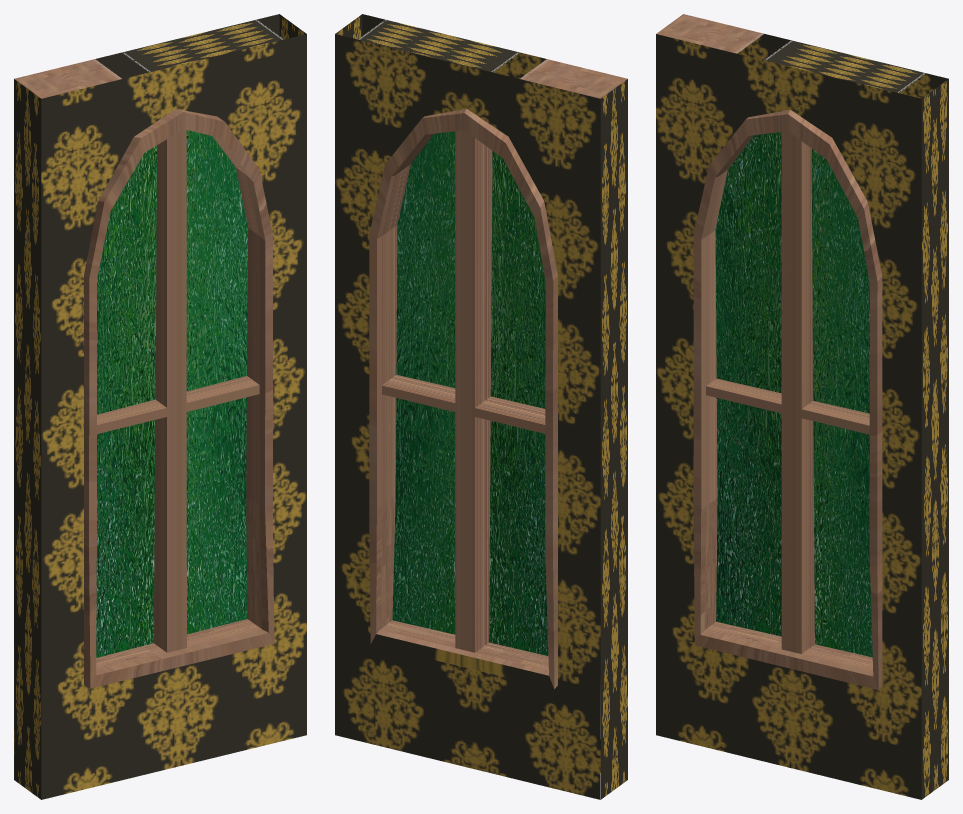
Rendered from Wall_Window.fbx.
3 renders of one model, left to right at view 1: azimuth 30°, elevation 25°; view 2: azimuth 150°, elevation 25°; view 3: azimuth 330°, elevation 25°, orthographic.
Parts seen in each view (by area): view 1: Wall_Small_Window; view 2: Wall_Small_Window; view 3: Wall_Small_Window.
Boxes of the visible parts, x1=… form: Wall_Small_Window: x1=14, y1=14, x2=306, y2=799; Wall_Small_Window: x1=335, y1=14, x2=627, y2=799; Wall_Small_Window: x1=656, y1=14, x2=948, y2=799.
Size of the model in its own units: 406 by 99.72 by 1024.
